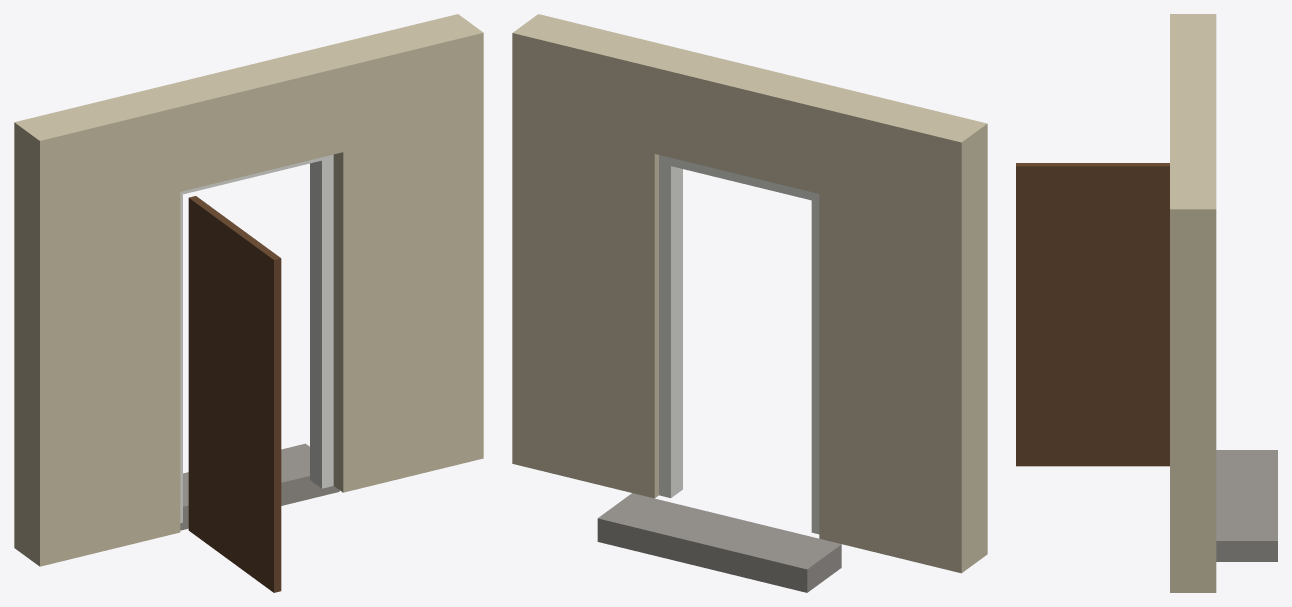
File: Kit_plaster_door.fbx
The picture shows the model from 3 angles, left to right: view 1: azimuth 30°, elevation 25°; view 2: azimuth 150°, elevation 25°; view 3: azimuth 270°, elevation 25°; orthographic projection. The views are drawn at different scales.
Visible parts, largest first — view 1: WallJambL, WallJambR, DoorLeaf, WallAbove, FrameR, Step, FrameL; view 2: WallJambL, WallJambR, WallAbove, Step, FrameR, FrameL, FrameTop; view 3: DoorLeaf, WallJambR, Step, WallAbove, WallJambL.
Boxes of the visible parts, <box> form: WallJambL: <box>14,88,180,566</box>; WallJambR: <box>318,14,483,492</box>; DoorLeaf: <box>188,196,281,592</box>; WallAbove: <box>155,48,343,191</box>; FrameR: <box>310,154,333,488</box>; Step: <box>180,443,339,530</box>; FrameL: <box>180,191,182,523</box>; WallJambL: <box>819,89,987,573</box>; WallJambR: <box>512,14,679,498</box>; WallAbove: <box>654,48,844,193</box>; Step: <box>597,493,841,592</box>; FrameR: <box>659,155,682,498</box>; FrameL: <box>811,192,819,534</box>; FrameTop: <box>662,157,816,200</box>; DoorLeaf: <box>1016,163,1169,466</box>; WallJambR: <box>1170,147,1216,592</box>; Step: <box>1216,450,1277,561</box>; WallAbove: <box>1170,75,1216,147</box>; WallJambL: <box>1170,14,1216,75</box>.
Bounding box in the file's own units: 300 × 170 × 290.
